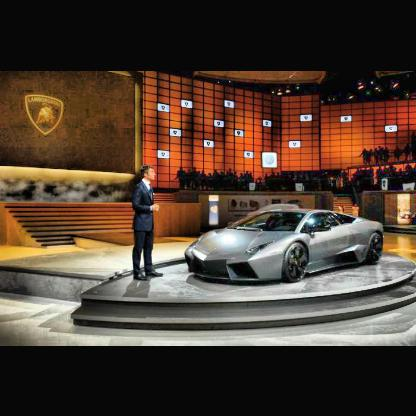Lamborghini Reventon Coupe 2008: (186, 204, 385, 283)
